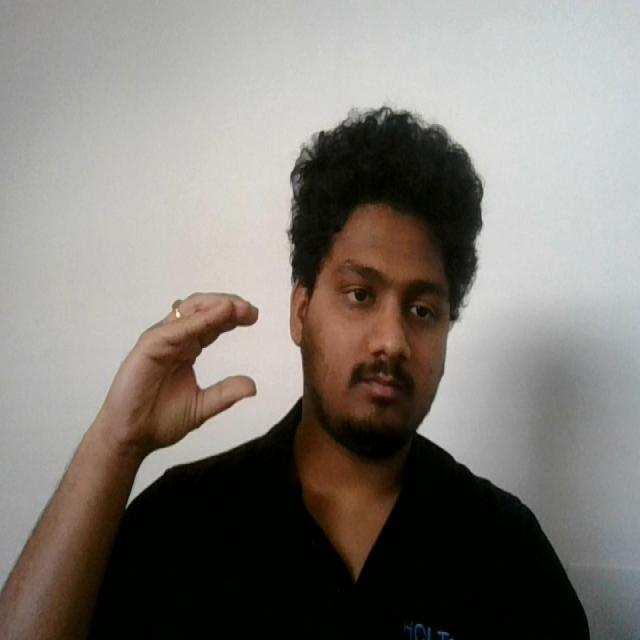No: (86, 281, 261, 456)
